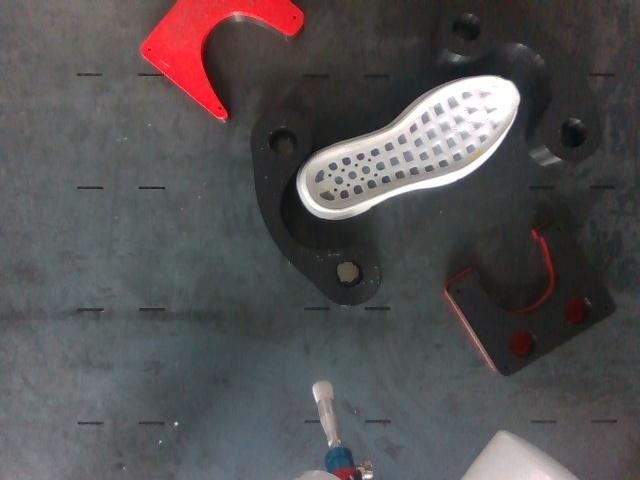shoes: (306, 76, 519, 212)
